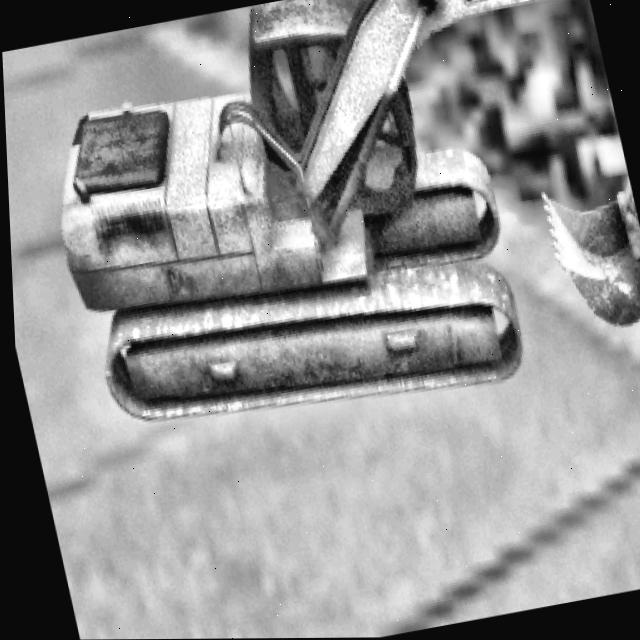excavator: (16, 0, 640, 450)
